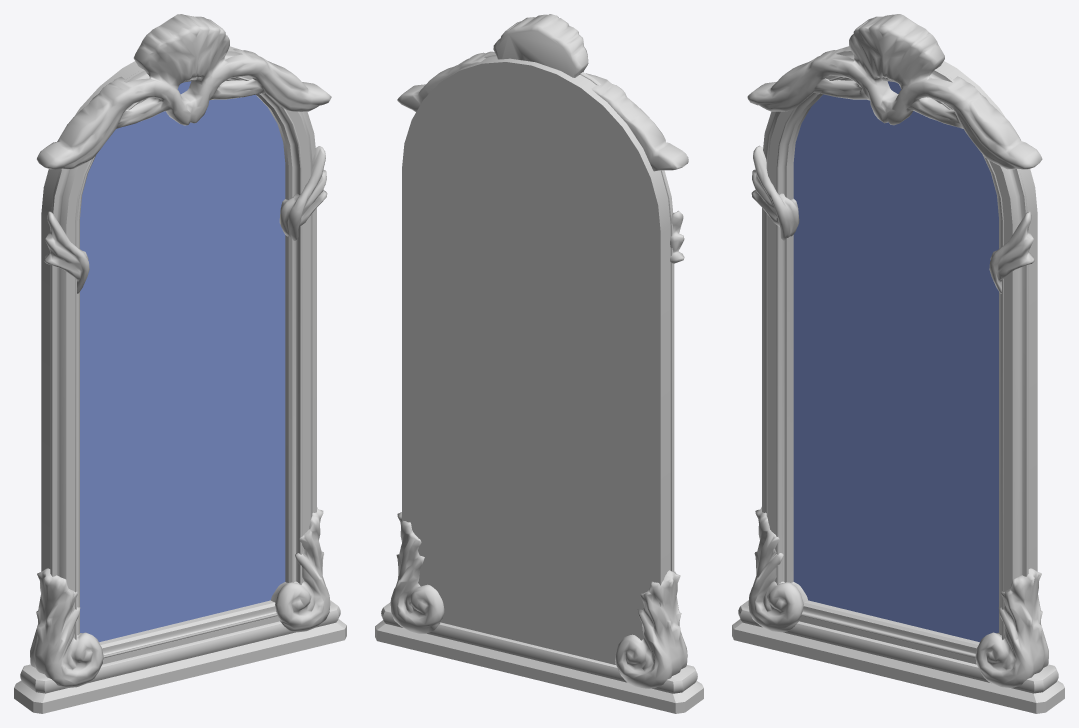
The model's file is mirror.fbx.
3 renders of one model, left to right at view 1: azimuth 30°, elevation 25°; view 2: azimuth 150°, elevation 25°; view 3: azimuth 330°, elevation 25°, orthographic.
Visible parts, largest first — view 1: Portal_frame_low.001, Portal_frame_low, Portal_top_low, Portal_base_low, Portal_swhirl_low, Portal_wings_low; view 2: Portal_frame_low, Portal_base_low, Portal_swhirl_low, Portal_top_low, Portal_wings_low; view 3: Portal_frame_low.001, Portal_frame_low, Portal_top_low, Portal_base_low, Portal_swhirl_low, Portal_wings_low.
Part boxes in pixels (x1,y1,x2,y2): Portal_frame_low.001: (80, 81, 285, 642); Portal_frame_low: (41, 46, 316, 664); Portal_top_low: (36, 14, 331, 169); Portal_base_low: (14, 600, 346, 713); Portal_swhirl_low: (30, 507, 330, 687); Portal_wings_low: (44, 146, 327, 293); Portal_frame_low: (402, 53, 674, 664); Portal_base_low: (375, 602, 703, 713); Portal_swhirl_low: (390, 512, 687, 688); Portal_top_low: (397, 14, 688, 171); Portal_wings_low: (670, 210, 684, 263); Portal_frame_low.001: (793, 81, 998, 642); Portal_frame_low: (762, 46, 1037, 664); Portal_top_low: (747, 14, 1042, 169); Portal_base_low: (732, 600, 1064, 713); Portal_swhirl_low: (748, 507, 1048, 687); Portal_wings_low: (751, 145, 1034, 293).
Size of the model in its own units: 14396 by 28555 by 2474.
